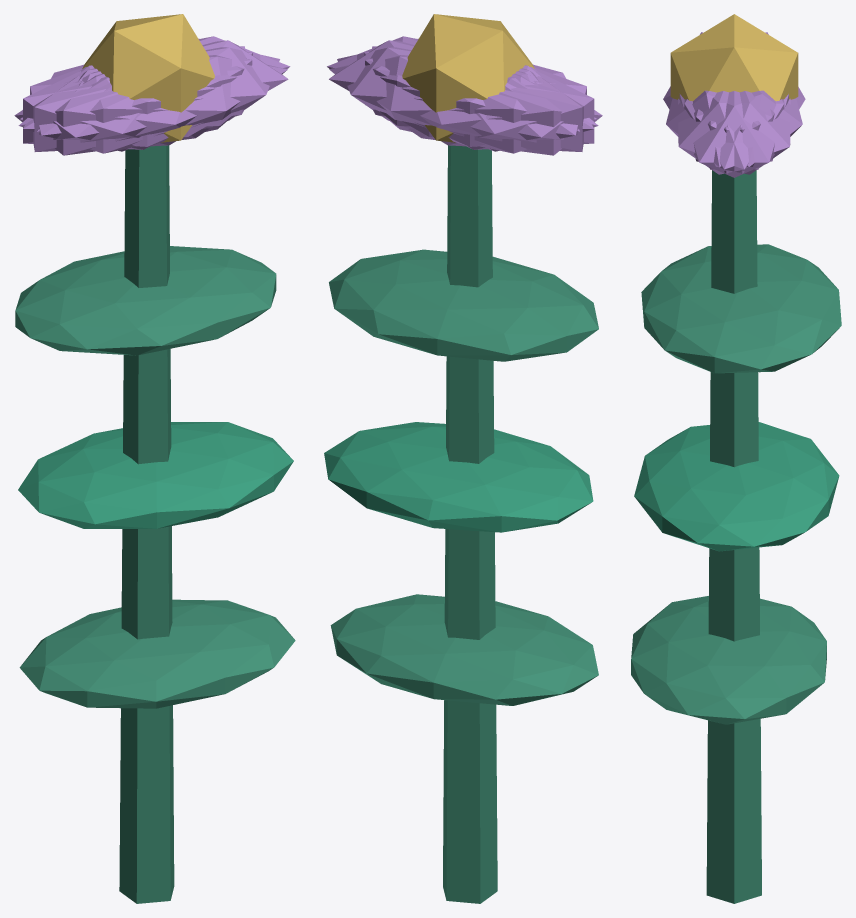
The model's file is billbergia-pyramidalis.glb.
The picture shows the model from 3 angles, left to right: view 1: azimuth 30°, elevation 25°; view 2: azimuth 150°, elevation 25°; view 3: azimuth 270°, elevation 25°; orthographic projection.
Visible parts, largest first — view 1: stem, leaf0, leaf1, leaf2, center, petal1, petal6, petal2, petal5, petal7, petal0, petal4 (+2 smaller); view 2: stem, leaf2, leaf1, leaf0, center, petal8, petal3, petal7, petal4, petal2, petal0, petal5 (+2 smaller); view 3: stem, leaf1, leaf2, leaf0, center, petal0, petal4, petal5, petal1, petal8.
Part boxes in pixels (bbox=[...]): stem: bbox=[119, 145, 174, 903]; leaf0: bbox=[19, 599, 295, 708]; leaf1: bbox=[18, 422, 293, 528]; leaf2: bbox=[15, 246, 276, 355]; center: bbox=[82, 14, 214, 142]; petal1: bbox=[18, 55, 287, 153]; petal6: bbox=[14, 67, 209, 155]; petal2: bbox=[33, 46, 244, 151]; petal5: bbox=[37, 47, 279, 146]; petal7: bbox=[23, 52, 252, 149]; petal0: bbox=[82, 40, 288, 137]; petal4: bbox=[20, 36, 290, 129]; stem: bbox=[443, 145, 497, 903]; leaf2: bbox=[329, 249, 598, 361]; leaf1: bbox=[324, 422, 593, 532]; leaf0: bbox=[330, 594, 598, 705]; center: bbox=[402, 14, 534, 142]; petal8: bbox=[329, 55, 598, 153]; petal3: bbox=[408, 67, 602, 155]; petal7: bbox=[372, 46, 583, 151]; petal4: bbox=[337, 47, 580, 146]; petal2: bbox=[364, 52, 594, 149]; petal0: bbox=[329, 40, 534, 137]; petal5: bbox=[327, 36, 596, 129]; stem: bbox=[706, 170, 761, 903]; leaf1: bbox=[634, 422, 839, 551]; leaf2: bbox=[641, 244, 841, 373]; leaf0: bbox=[631, 596, 826, 724]; center: bbox=[670, 14, 798, 101]; petal0: bbox=[679, 91, 788, 177]; petal4: bbox=[684, 91, 790, 174]; petal5: bbox=[678, 91, 784, 174]; petal1: bbox=[666, 90, 774, 167]; petal8: bbox=[694, 90, 802, 167].
Bounding box in the file's own units: 0.1452 × 0.4559 × 0.1011.
